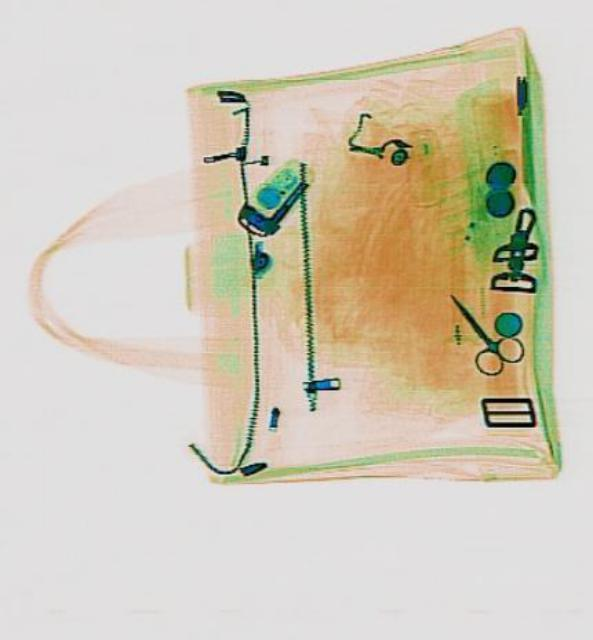Scissors: (429, 276, 528, 382)
